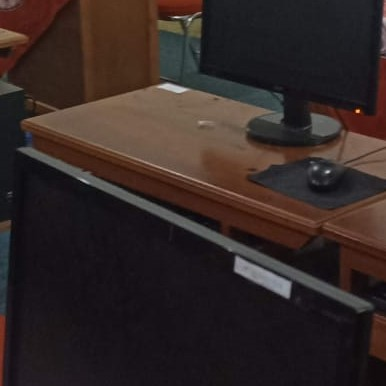monitor: (2, 147, 374, 380), (196, 0, 382, 117)
